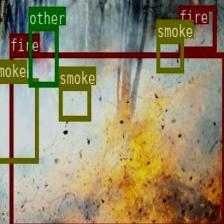fire: (9, 52, 224, 224), (178, 5, 216, 51)
smoke: (0, 78, 38, 162), (58, 84, 90, 120), (156, 37, 183, 72)
